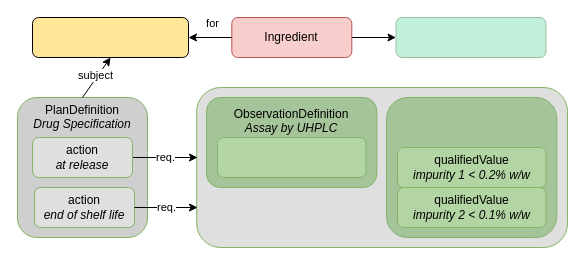
This 585x265 diagram has some shape labels left out. The shapes that lost their labels are listed below. From the top down, each one's box as (x1, y1, x2, y2) in pixels, then its label:
(32, 16, 188, 58): MedicinalProductDefintion Stelbat Tablets, 20mg
(395, 16, 546, 58): SubstanceDefinition Stelbatolol
(216, 136, 366, 178): qualifiedValue 95%-105% of label claim
(386, 96, 557, 238): ObservationDefinition Degradation products by UHPLC
